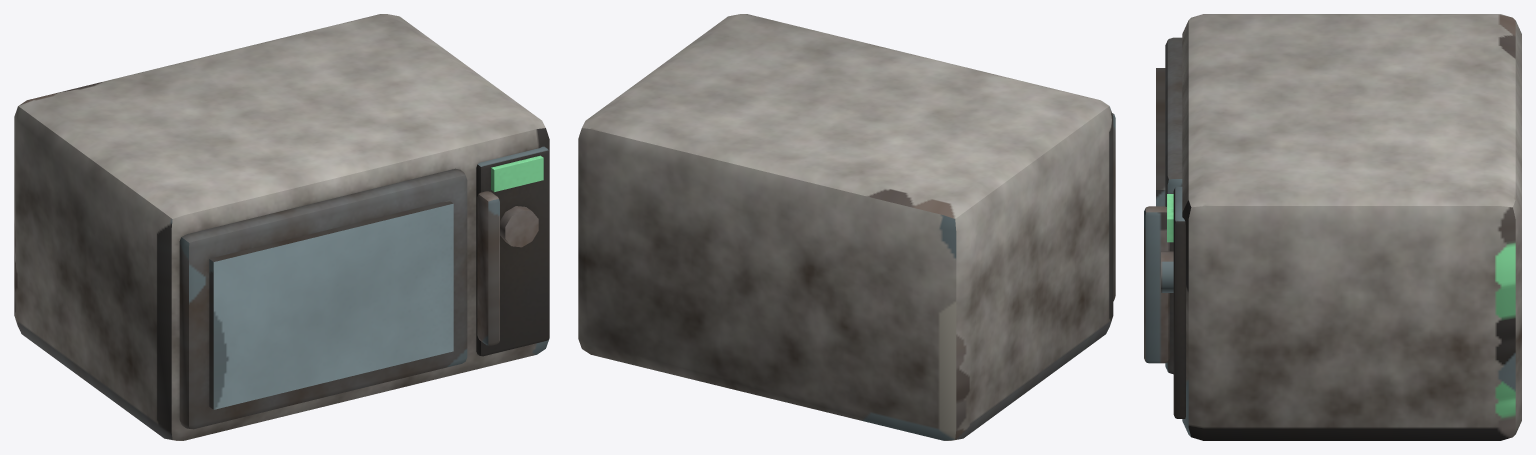
Rendered from g67_pz_microwave.glb.
3 renders of one model, left to right at view 1: azimuth 30°, elevation 25°; view 2: azimuth 150°, elevation 25°; view 3: azimuth 270°, elevation 25°, orthographic. The views are drawn at different scales.
Visible parts, largest first — view 1: body, g67_pz_microwave, door_leaf; view 2: body, door_leaf; view 3: body, g67_pz_microwave, door_leaf.
Part boxes in pixels (<box>): body: <box>14,14,549,440</box>; g67_pz_microwave: <box>209,146,549,409</box>; door_leaf: <box>179,168,467,429</box>; body: <box>578,14,1113,440</box>; door_leaf: <box>1112,113,1115,301</box>; body: <box>1182,14,1521,440</box>; g67_pz_microwave: <box>1144,68,1185,418</box>; door_leaf: <box>1165,37,1182,374</box>.
Size of the model in its own units: 0.55 by 0.32 by 0.445.
Materials: 1 (1 with a texture image).
